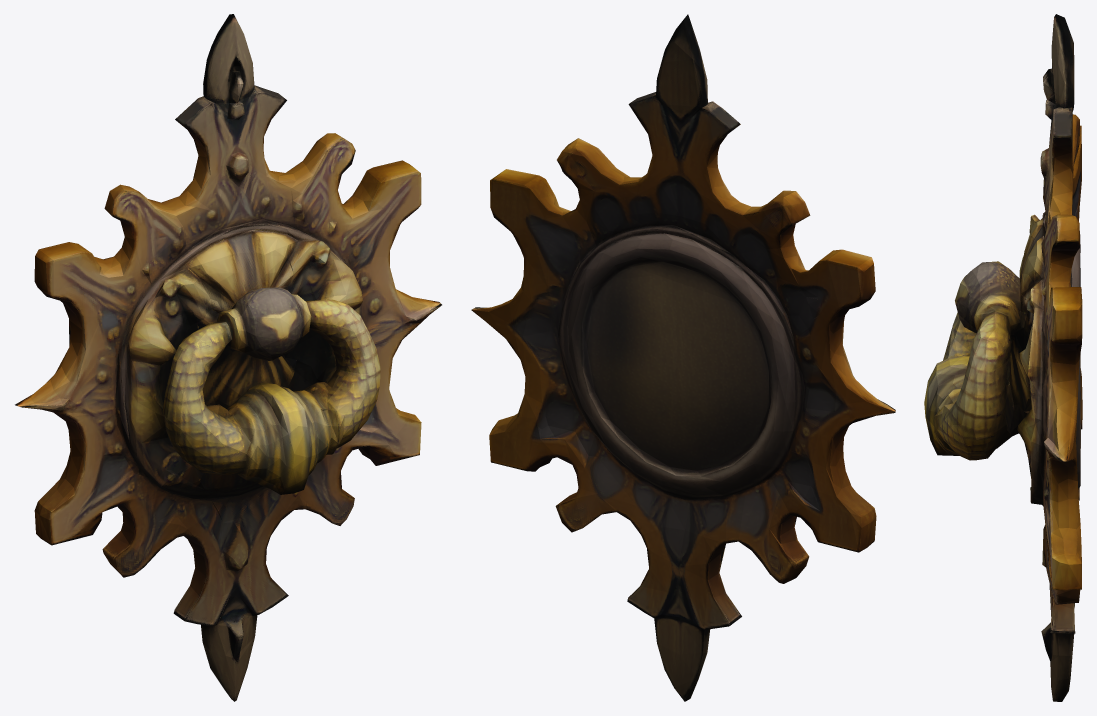
Rendered from wooden-door-knocker-3d.jpeg.glb.
3 views of the same model, side by side, from view 1: azimuth 30°, elevation 25°; view 2: azimuth 150°, elevation 25°; view 3: azimuth 270°, elevation 25° (orthographic).
Visible parts, largest first — view 1: world; view 2: world; view 3: world.
Part boxes in pixels (x1,y1,x2,y2): world: [15, 14, 441, 701]; world: [471, 14, 895, 701]; world: [924, 14, 1082, 701].
Bounding box in the file's own units: 0.6497 × 1 × 0.2095.
1 material, 1 textured.
